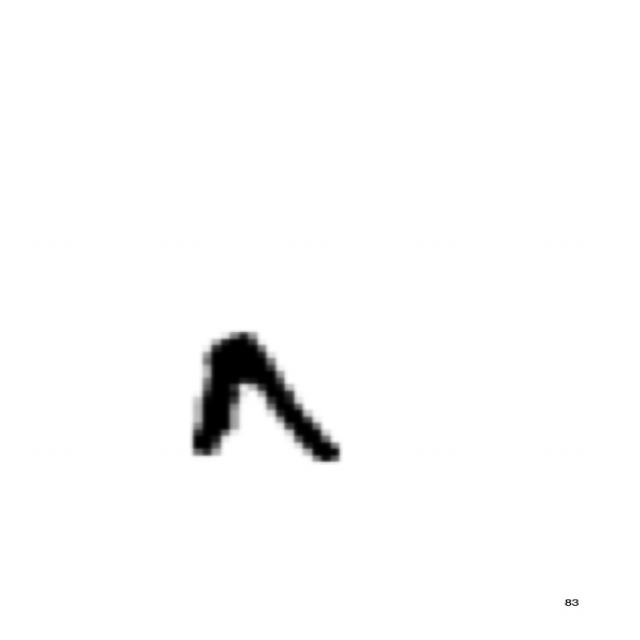8 -eight-: (164, 314, 354, 481)
